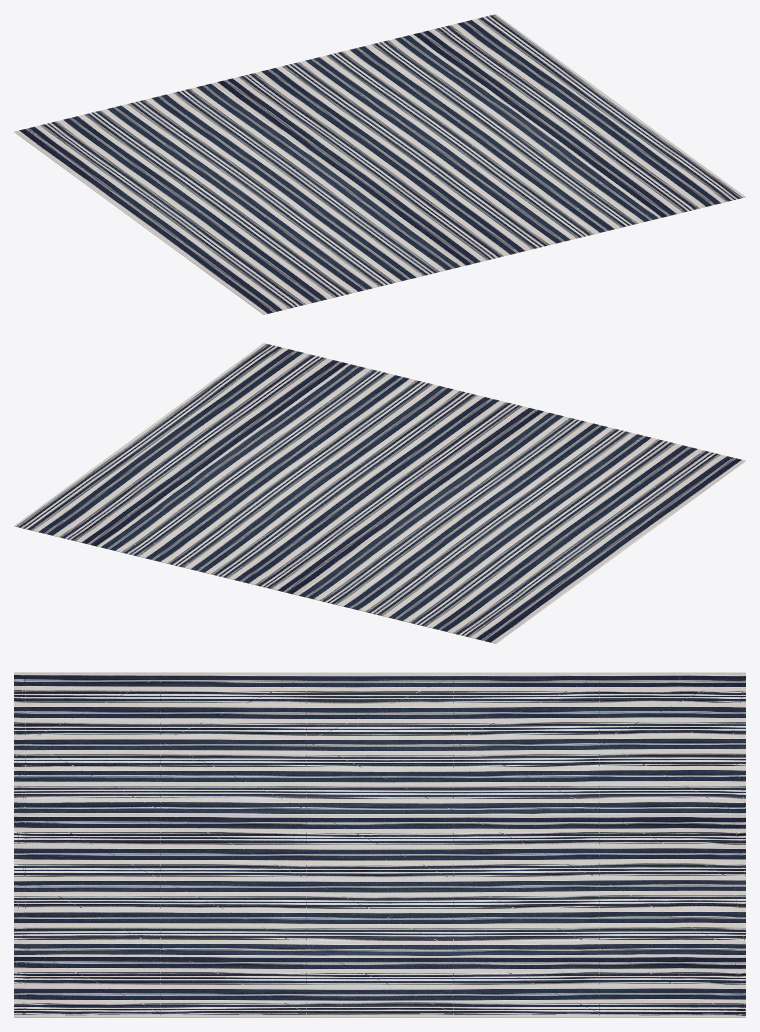
File: SophiaRug_blender.glb
3 views of the same model, one above another, from view 1: azimuth 30°, elevation 25°; view 2: azimuth 150°, elevation 25°; view 3: azimuth 270°, elevation 25° (orthographic). The views are drawn at different scales.
Visible parts, largest first — view 1: Object; view 2: Object; view 3: Object.
Boxes of the visible parts, x1,y1,x2,y2 form: Object: (14, 14, 745, 314); Object: (14, 343, 745, 643); Object: (14, 672, 745, 1017).
Bounding box in the file's own units: 4.09 × 0.00272 × 3.67.
Materials: 1 (1 with a texture image).
